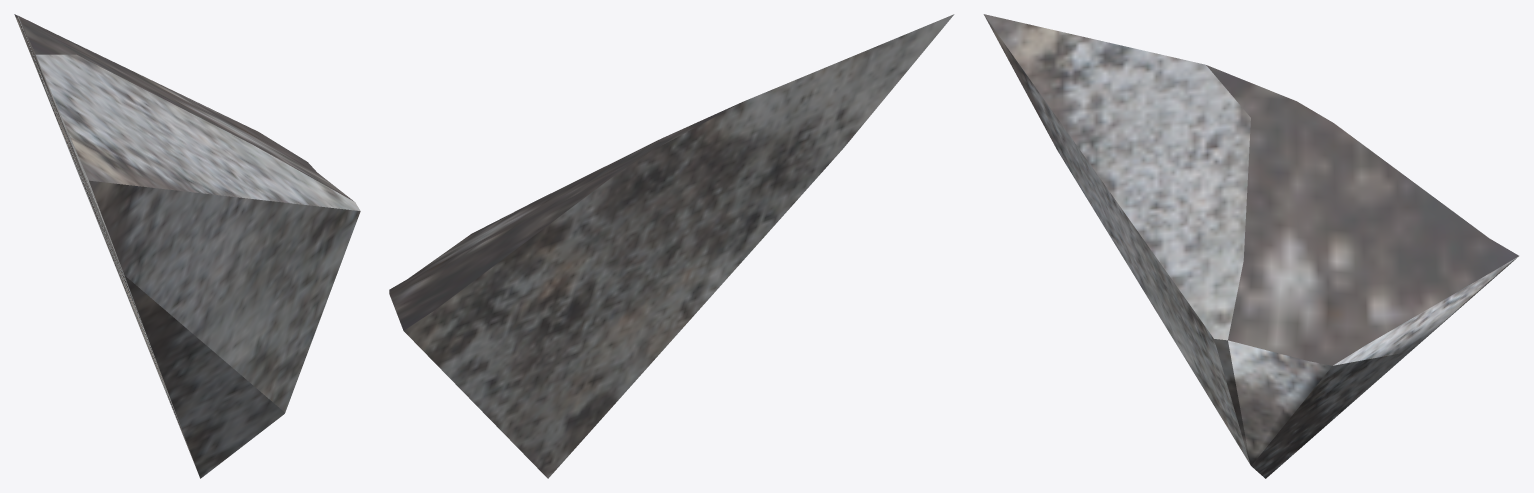
Rendered from Asteroid_Large_001_02_010_03_011.fbx.
3 views of the same model, side by side, from view 1: azimuth 30°, elevation 25°; view 2: azimuth 150°, elevation 25°; view 3: azimuth 270°, elevation 25° (orthographic). The views are drawn at different scales.
Visible parts, largest first — view 1: Asteroid_Large_001_02_010_03_011; view 2: Asteroid_Large_001_02_010_03_011; view 3: Asteroid_Large_001_02_010_03_011.
Boxes of the visible parts, bbox=[...] form: Asteroid_Large_001_02_010_03_011: bbox=[14, 14, 360, 478]; Asteroid_Large_001_02_010_03_011: bbox=[389, 14, 954, 478]; Asteroid_Large_001_02_010_03_011: bbox=[983, 14, 1518, 478].
Size of the model in its own units: 4.21 by 4.47 by 6.05.
